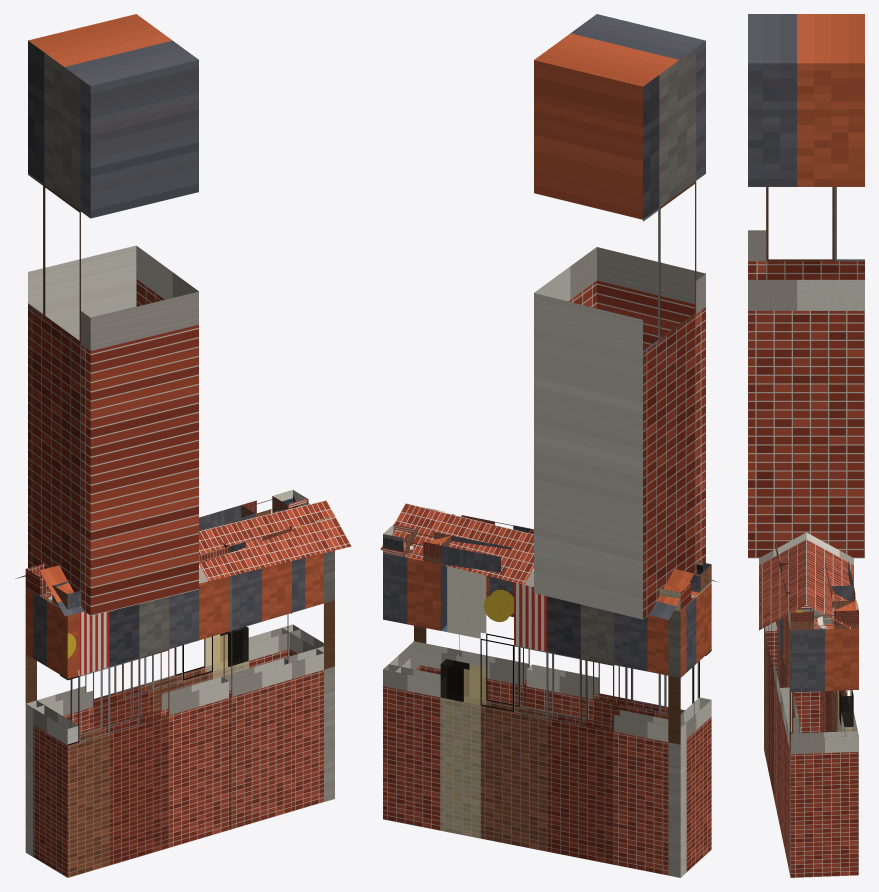
3 views of the same model, side by side, from view 1: azimuth 30°, elevation 25°; view 2: azimuth 150°, elevation 25°; view 3: azimuth 270°, elevation 25° (orthographic). The views are drawn at different scales.
Visible parts, largest first — view 1: 238563124__chimney_0_xb, 238563124__wall_5_xb, 238563124__wall_6_xb, 238563124__wall_4_xb, 238563124__wall_3_xb, 238563124_roof_-1_xb, 238563124__wall_0_xb, 238563124__wall_1_xb, 238563124__wall_2_xb, 238563124__wall_3_xf, 238563124__cornice_3; view 2: 238563124__chimney_0_xb, 238563124__wall_3_xb, 238563124__wall_2_xb, 238563124__wall_4_xb, 238563124_roof_1_xb, 238563124__wall_5_xb, 238563124__wall_6_xb, 238563124__wall_3_xf, 238563124__cornice_3, 238563124__cornice_2, 238563124__wall_0_xb, 238563124__wall_1_xb; view 3: 238563124__chimney_0_xb, 238563124__wall_1_xb, 238563124__wall_0_xb, 238563124_roof_-1_xb, 238563124__wall_5_xb, 238563124_roof_1_xb, 238563124__wall_4_xb, 238563124__wall_3_xb, 238563124__wall_6_xb, 238563124__cornice_1, 238563124__cornice_0, 238563124__wall_3_xf (+1 smaller).
Boxes of the visible parts, left/top/right/bottom form: 238563124__chimney_0_xb: left=28, top=14, right=198, bottom=615; 238563124__wall_5_xb: left=60, top=576, right=228, bottom=877; 238563124__wall_6_xb: left=223, top=561, right=291, bottom=829; 238563124__wall_4_xb: left=25, top=592, right=78, bottom=877; 238563124__wall_3_xb: left=25, top=588, right=248, bottom=856; 238563124_roof_-1_xb: left=39, top=500, right=351, bottom=616; 238563124__wall_0_xb: left=284, top=553, right=323, bottom=811; 238563124__wall_1_xb: left=282, top=550, right=334, bottom=801; 238563124__wall_2_xb: left=248, top=624, right=300, bottom=668; 238563124__wall_3_xf: left=205, top=627, right=248, bottom=670; 238563124__cornice_3: left=25, top=505, right=255, bottom=596; 238563124__chimney_0_xb: left=534, top=14, right=705, bottom=619; 238563124__wall_3_xb: left=440, top=564, right=686, bottom=877; 238563124__wall_2_xb: left=383, top=553, right=445, bottom=830; 238563124__wall_4_xb: left=668, top=583, right=711, bottom=877; 238563124_roof_1_xb: left=380, top=503, right=693, bottom=619; 238563124__wall_5_xb: left=526, top=650, right=711, bottom=723; 238563124__wall_6_xb: left=456, top=575, right=529, bottom=706; 238563124__wall_3_xf: left=441, top=565, right=485, bottom=704; 238563124__cornice_3: left=440, top=535, right=691, bottom=610; 238563124__cornice_2: left=383, top=524, right=451, bottom=563; 238563124__wall_0_xb: left=408, top=634, right=461, bottom=674; 238563124__wall_1_xb: left=389, top=625, right=426, bottom=672; 238563124__chimney_0_xb: left=748, top=14, right=864, bottom=558; 238563124__wall_1_xb: left=789, top=623, right=858, bottom=877; 238563124__wall_0_xb: left=786, top=609, right=802, bottom=877; 238563124_roof_-1_xb: left=759, top=532, right=806, bottom=630; 238563124__wall_5_xb: left=764, top=619, right=791, bottom=825; 238563124_roof_1_xb: left=806, top=533, right=853, bottom=630; 238563124__wall_4_xb: left=764, top=608, right=832, bottom=732; 238563124__wall_3_xb: left=819, top=612, right=853, bottom=732; 238563124__wall_6_xb: left=780, top=616, right=798, bottom=855; 238563124__cornice_1: left=788, top=600, right=858, bottom=629; 238563124__cornice_0: left=787, top=592, right=813, bottom=630; 238563124__wall_3_xf: left=838, top=690, right=853, bottom=726.
Size of the model in its own units: 0.397 by 1.05 by 0.15.
Materials: 1 (1 with a texture image).
